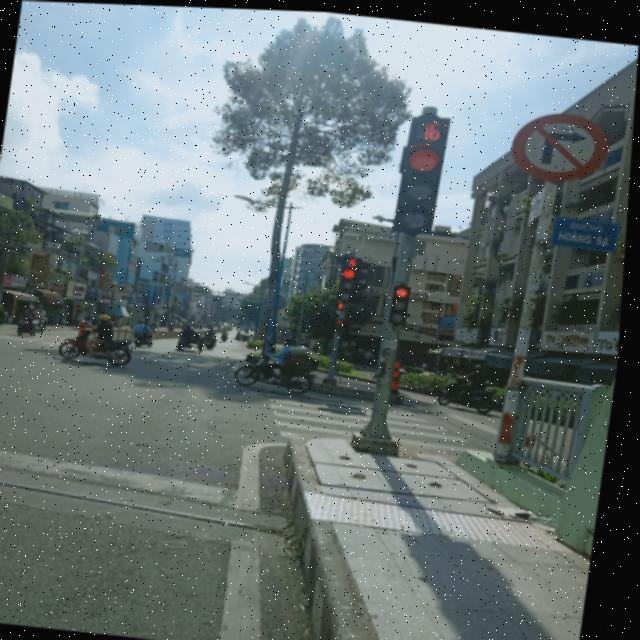Red: (390, 138, 452, 231), (387, 277, 419, 322), (337, 263, 363, 302), (336, 315, 353, 336)
